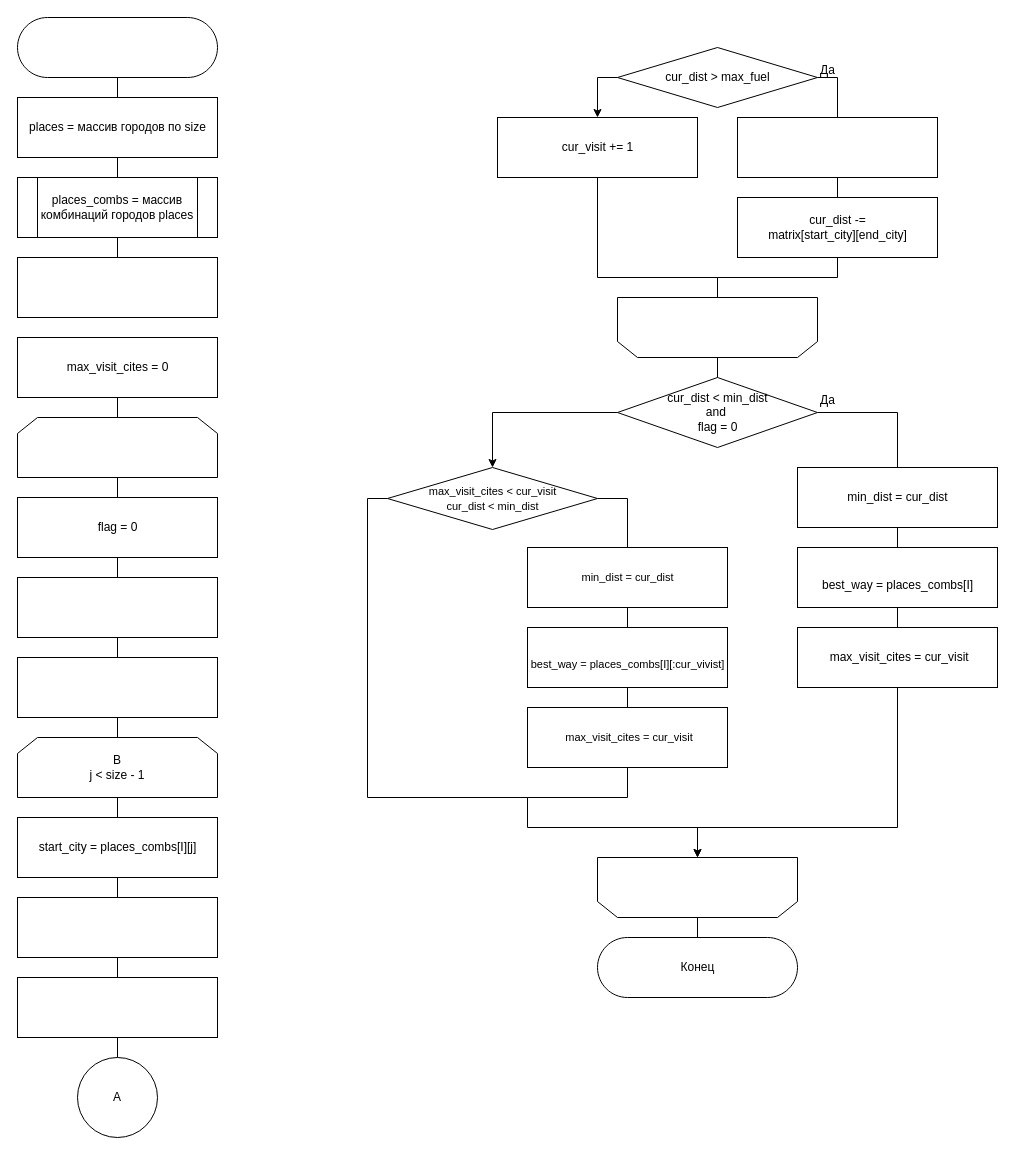
The diagram is 1015 pixels wide and 1155 high, and some of its shapes have lost their labels. Here are the shapes that lost their labels. From the top down, the box of each, then its label:
(16, 16, 218, 78): Начало
(736, 116, 938, 178): flag = 1
(16, 256, 218, 318): min_dist = inf
(616, 296, 818, 358): B Конец по j
(16, 416, 218, 478): A i < len(places_combs)
(16, 576, 218, 638): cur_dist = 0
(16, 656, 218, 718): cur_visit = 0
(596, 856, 798, 918): i += 1
(16, 896, 218, 958): end_city = places_combs[I][j + 1]
(16, 976, 218, 1038): cur_dist += matrix[start_city][end_city]
